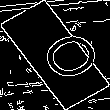O_SW: (16, 23, 94, 87)
